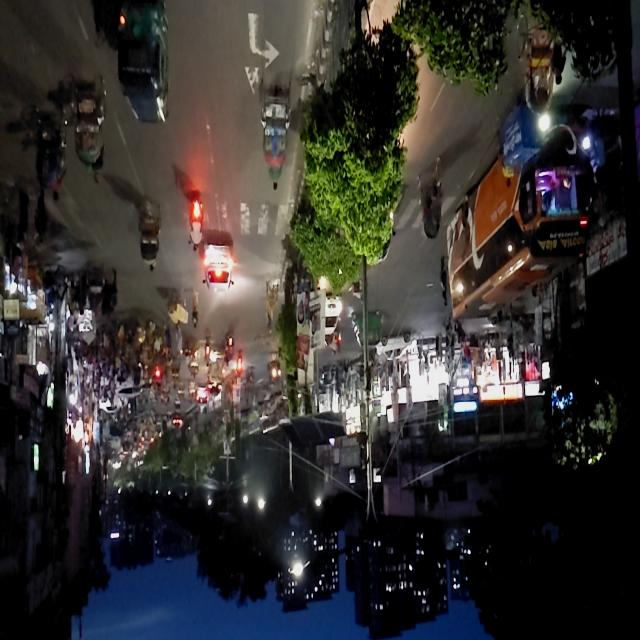silver: (195, 236, 246, 296)
white: (369, 315, 432, 373), (320, 281, 348, 333)
